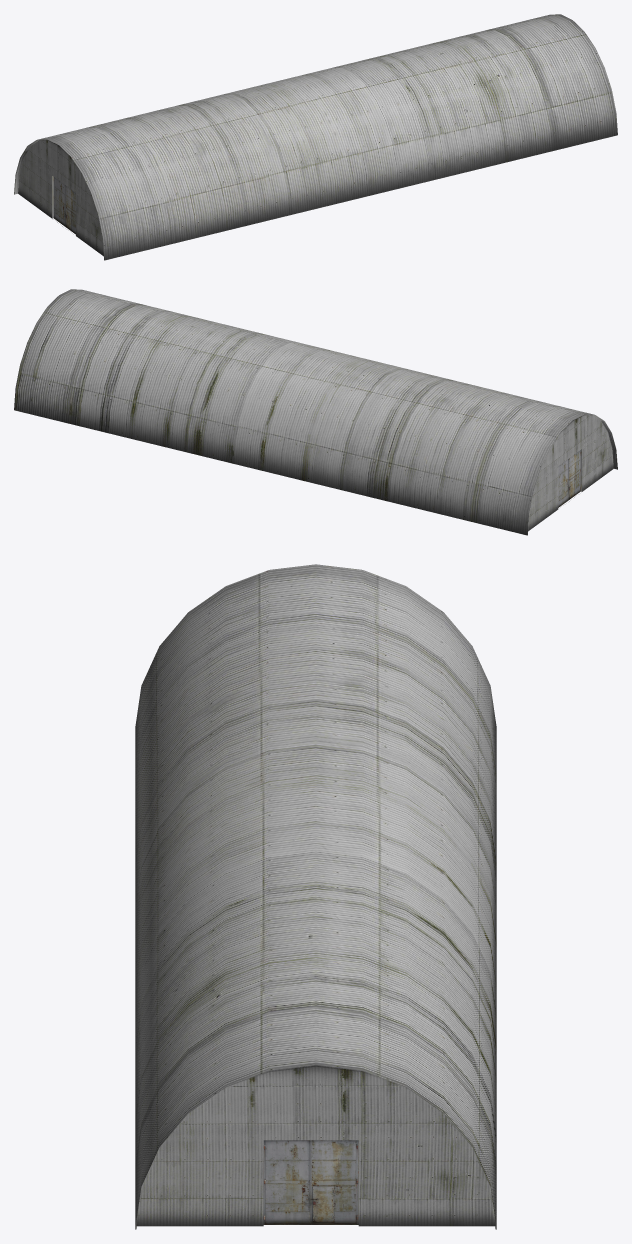
Rendered from r402_ravnec_angar2.FBX.
3 views of the same model, one above another, from view 1: azimuth 30°, elevation 25°; view 2: azimuth 150°, elevation 25°; view 3: azimuth 270°, elevation 25° (orthographic). The views are drawn at different scales.
Parts seen in each view (by area): view 1: r402_ravnec_angar2; view 2: r402_ravnec_angar2; view 3: r402_ravnec_angar2.
Part boxes in pixels (<box>): r402_ravnec_angar2: <box>14,14,617,260</box>; r402_ravnec_angar2: <box>14,289,617,535</box>; r402_ravnec_angar2: <box>135,564,496,1229</box>.
Size of the model in its own units: 5000 by 1524 by 763.
